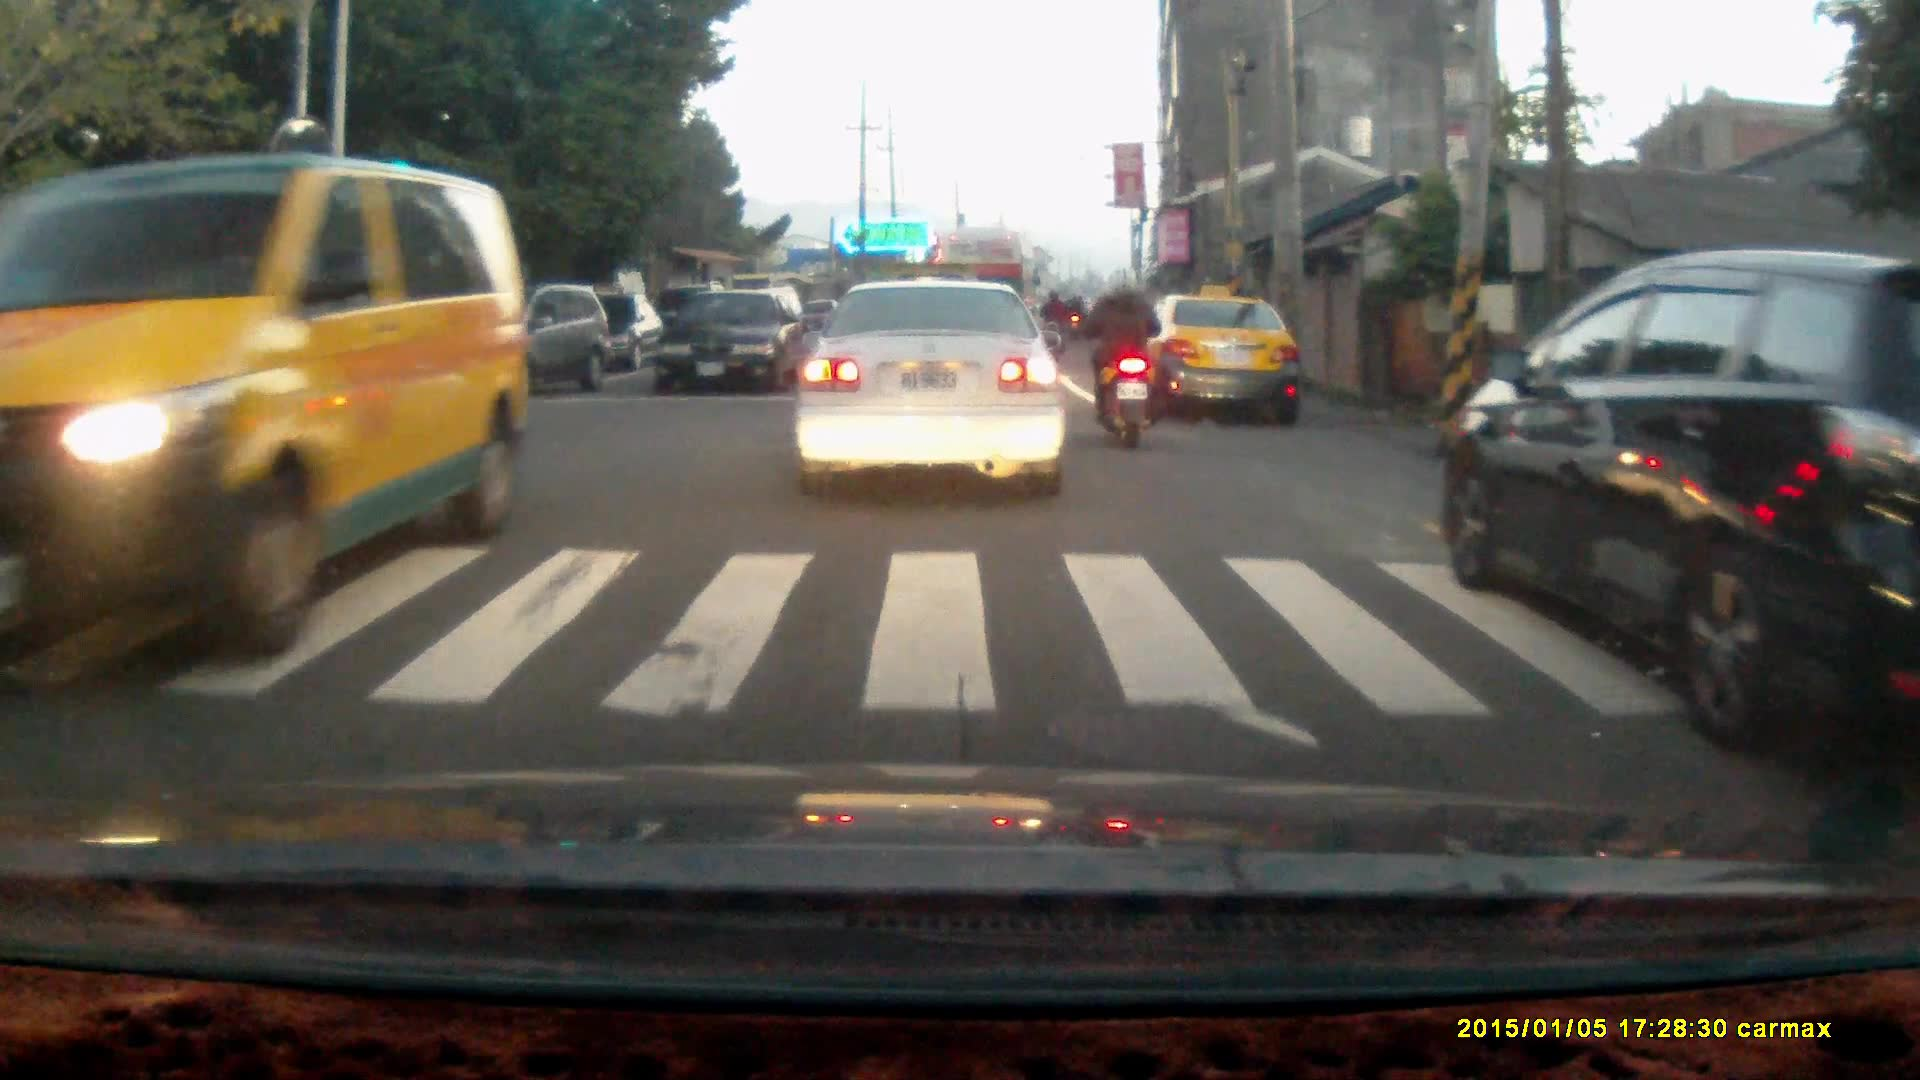rider: (1078, 263, 1165, 449)
vehicle: (1, 152, 539, 661), (1445, 245, 1920, 753), (793, 275, 1070, 501), (1129, 293, 1301, 426), (650, 285, 808, 400)
